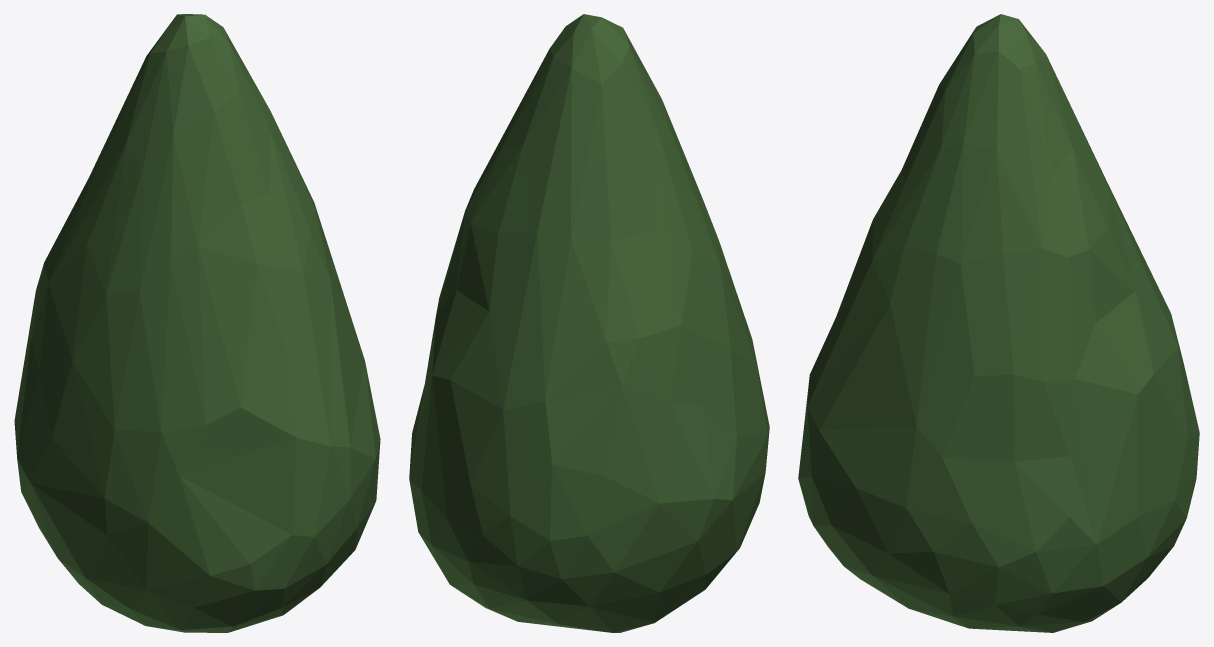
The model's file is treeleaf.fbx.
3 renders of one model, left to right at view 1: azimuth 30°, elevation 25°; view 2: azimuth 150°, elevation 25°; view 3: azimuth 270°, elevation 25°, orthographic.
Visible parts, largest first — view 1: Cube.001; view 2: Cube.001; view 3: Cube.001.
Part boxes in pixels (x1=…): Cube.001: x1=14, y1=14, x2=380, y2=632; Cube.001: x1=409, y1=14, x2=769, y2=632; Cube.001: x1=798, y1=14, x2=1199, y2=632.
Size of the model in its own units: 229 by 411 by 255.
